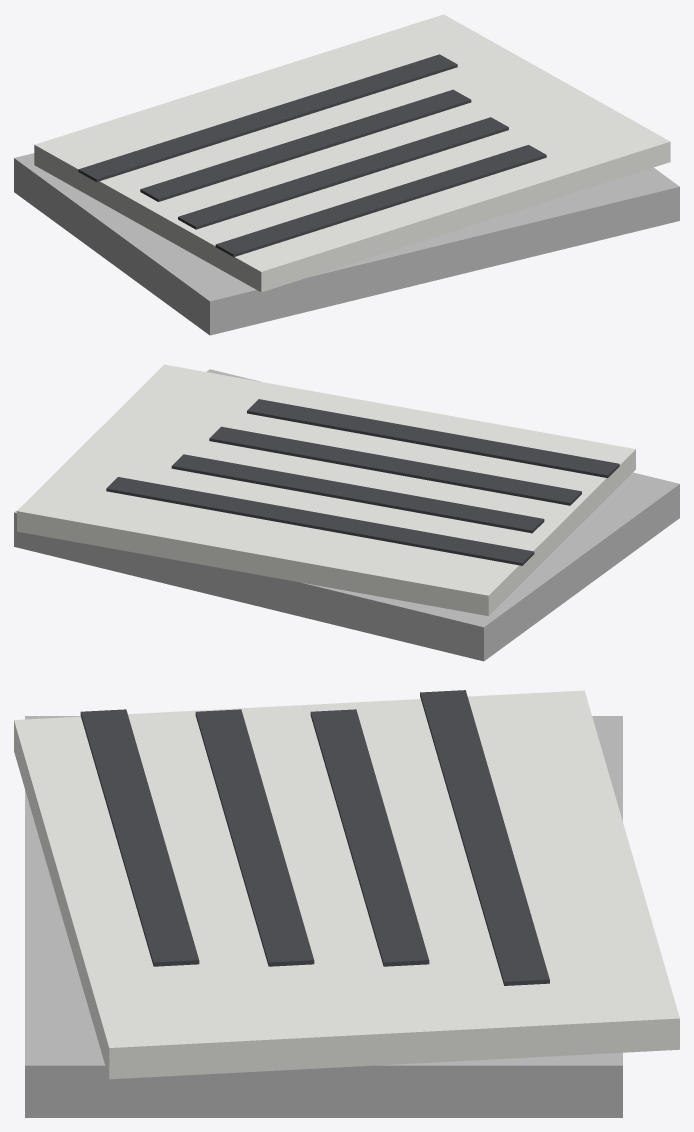
File: Trash_Newspaper.fbx
The picture shows the model from 3 angles, top to bottom: view 1: azimuth 30°, elevation 25°; view 2: azimuth 150°, elevation 25°; view 3: azimuth 270°, elevation 25°; orthographic projection. The views are drawn at different scales.
Parts seen in each view (by area): view 1: Trash_Newspaper; view 2: Trash_Newspaper; view 3: Trash_Newspaper.
Part boxes in pixels (x1,y1,x2,y2): Trash_Newspaper: (14,14,679,335); Trash_Newspaper: (14,364,679,661); Trash_Newspaper: (14,690,679,1117).
Bounding box in the file's own units: 0.374 × 0.042 × 0.2896.
